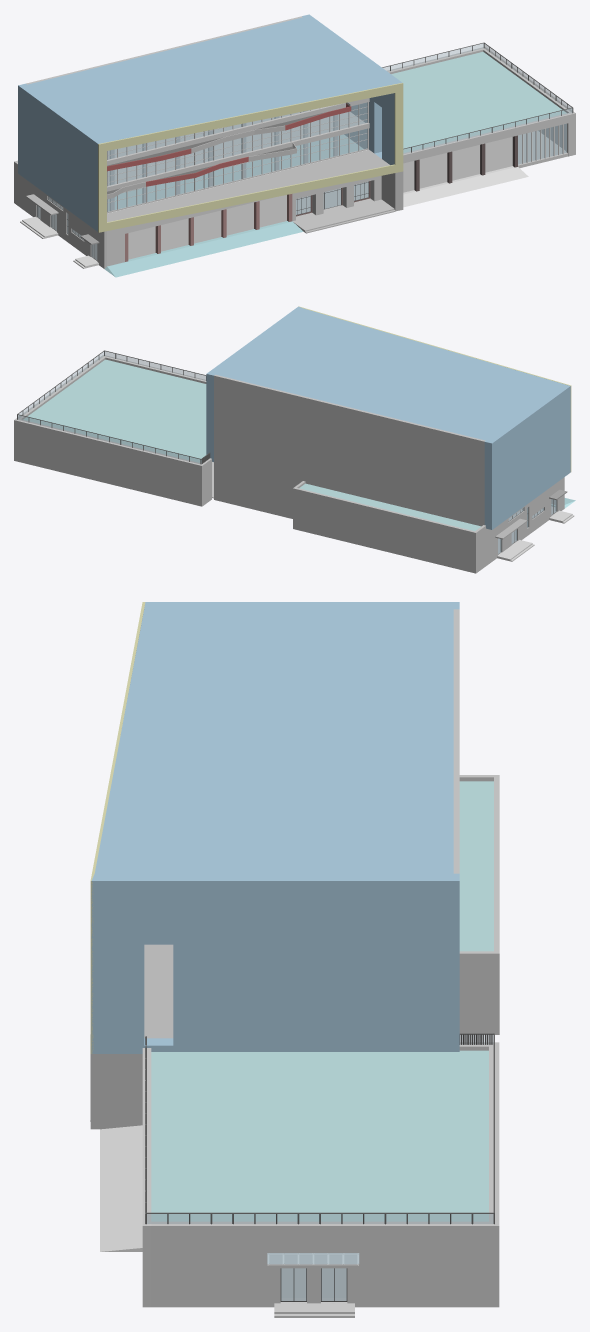
The model's file is 图书馆外壳.fbx.
3 renders of one model, top to bottom at view 1: azimuth 30°, elevation 25°; view 2: azimuth 150°, elevation 25°; view 3: azimuth 270°, elevation 25°, orthographic. The views are drawn at different scales.
Parts seen in each view (by area): view 1: polySurface156; view 2: polySurface156; view 3: polySurface156.
Part boxes in pixels (bbox=[...]): polySurface156: bbox=[14, 14, 575, 277]; polySurface156: bbox=[14, 306, 575, 573]; polySurface156: bbox=[90, 602, 499, 1317].
Size of the model in its own units: 597 by 145 by 217.
